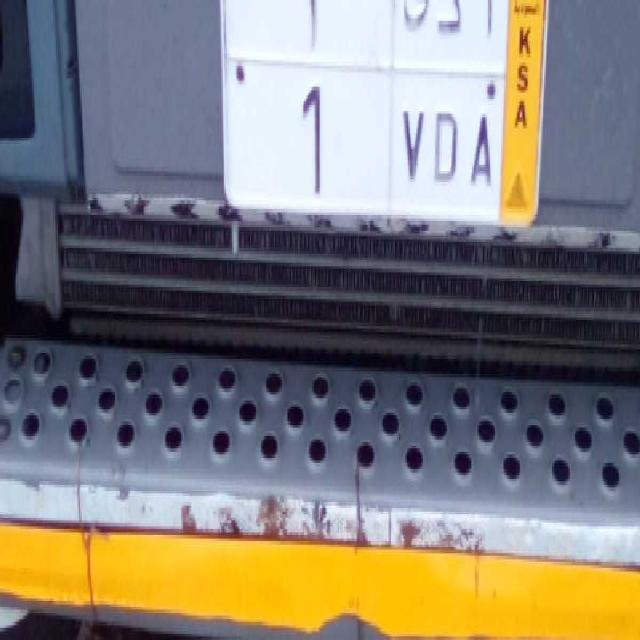license_plate: (220, 55, 503, 218)
